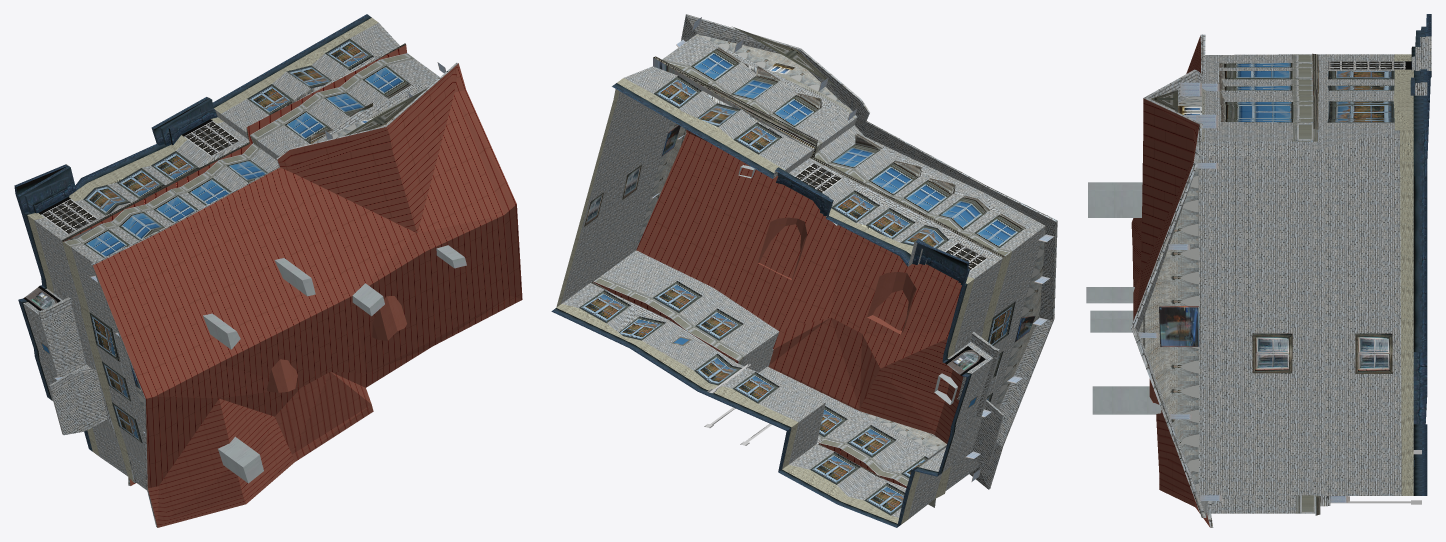
Rendered from Wismari-3-origo.obj.
3 renders of one model, left to right at view 1: azimuth 30°, elevation 25°; view 2: azimuth 150°, elevation 25°; view 3: azimuth 270°, elevation 25°, orthographic. The views are drawn at different scales.
Parts seen in each view (by area): view 1: W3_Building; view 2: W3_Building; view 3: W3_Building.
Part boxes in pixels (x1,y1,x2,y2): W3_Building: (14,14,522,527); W3_Building: (551,14,1057,527); W3_Building: (1086,14,1431,527).
Bounding box in the file's own units: 25.81 × 22.5 × 12.99.
